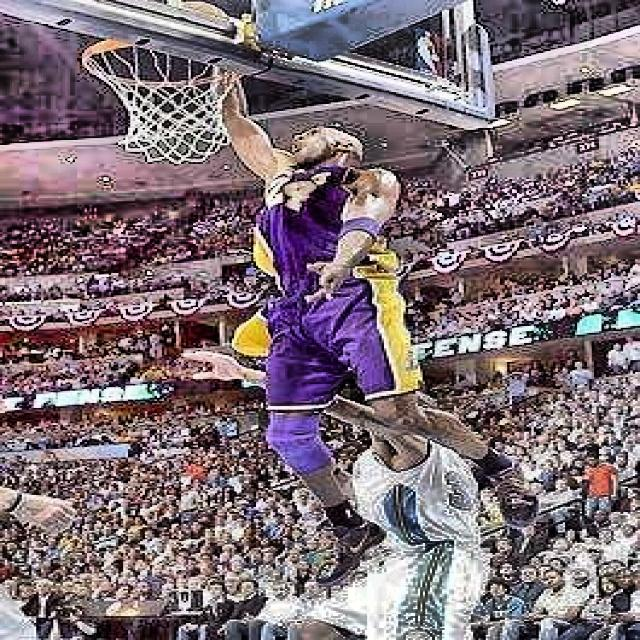rim: (83, 40, 238, 163)
